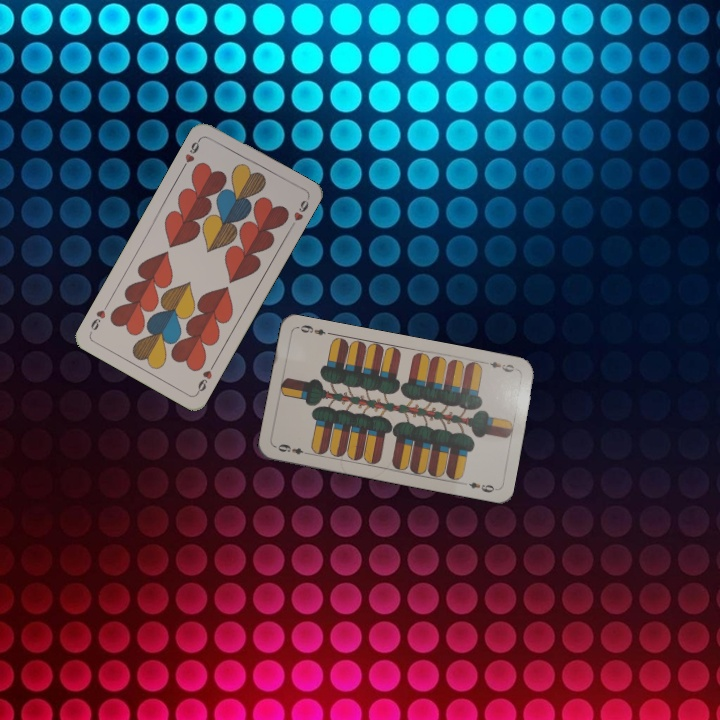E9: (274, 440, 312, 457), (486, 357, 520, 375)
H9: (178, 134, 204, 171), (193, 359, 218, 396)
